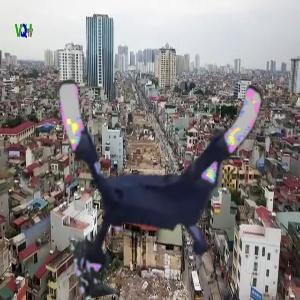drone: (57, 60, 279, 282)
